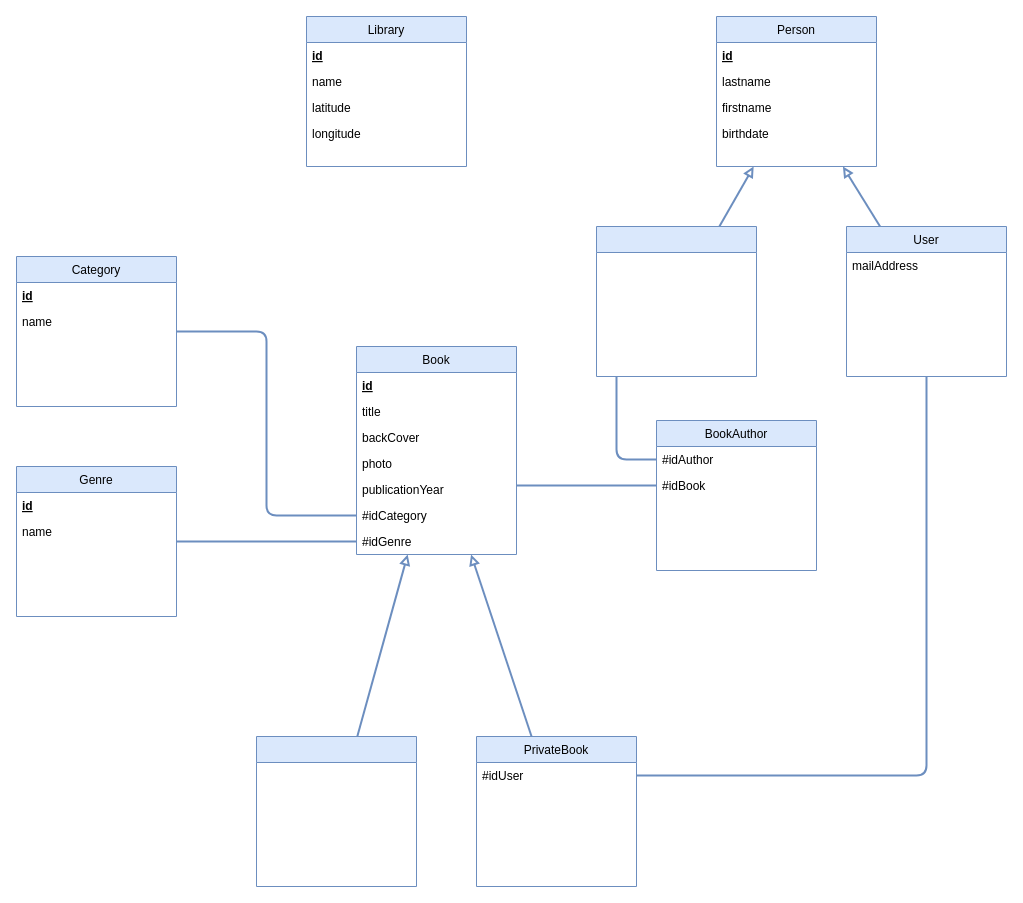
Some shapes in this 1023 by 903 pixel diagram are drawn without their labels. The shapes that lost their labels are listed below. From the top down, each one's centre as x and y in pixels, then its label:
the point at 676,301: Author
the point at 336,811: PublicBook
